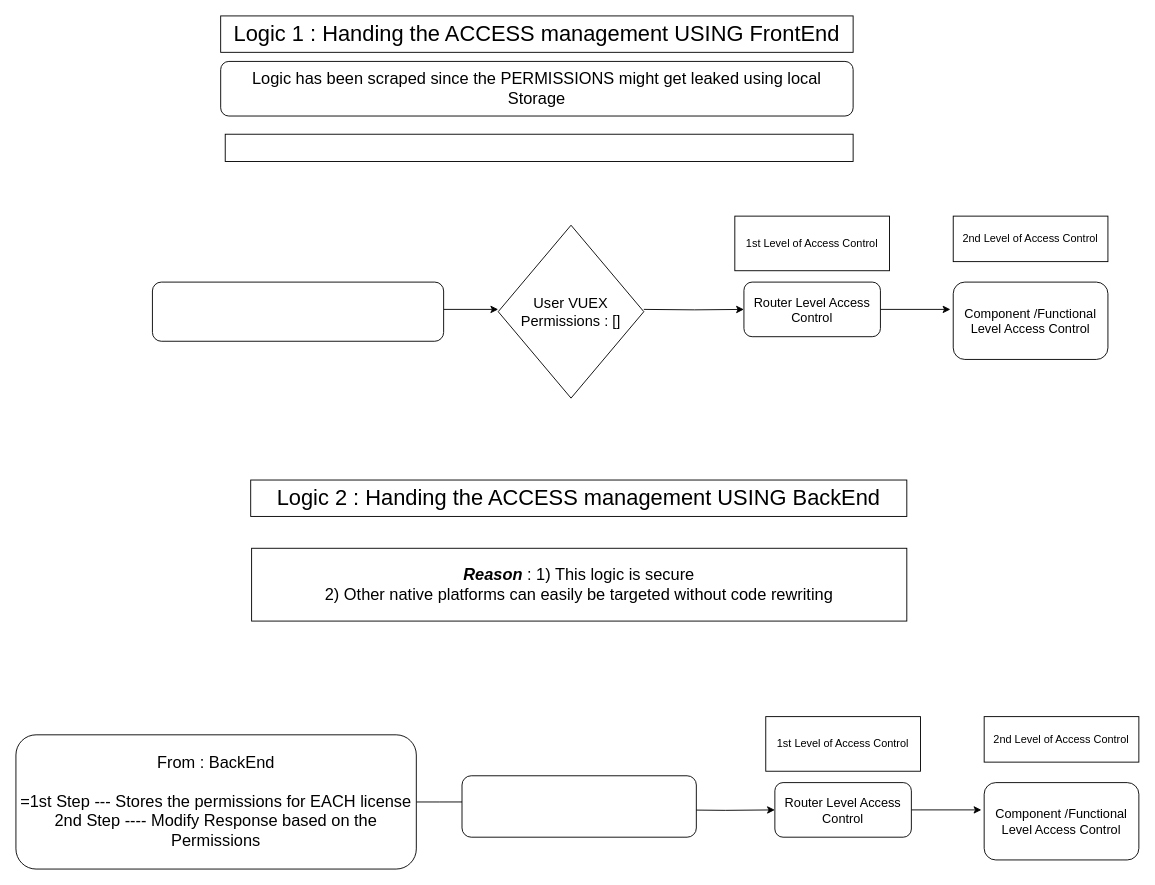
The diagram is 1155 pixels wide and 885 high, and some of its shapes have lost their labels. Here are the shapes that lost their labels. From the top down, the centre of each, then its label:
At point 538,147: "For Managing access control in Vuejs".
At point 298,311: "From : BackEnd / Keycloak Data : Permissions Encoded in vue token".
At point 578,806: "TO FrontEnd Fetch the permissions".
